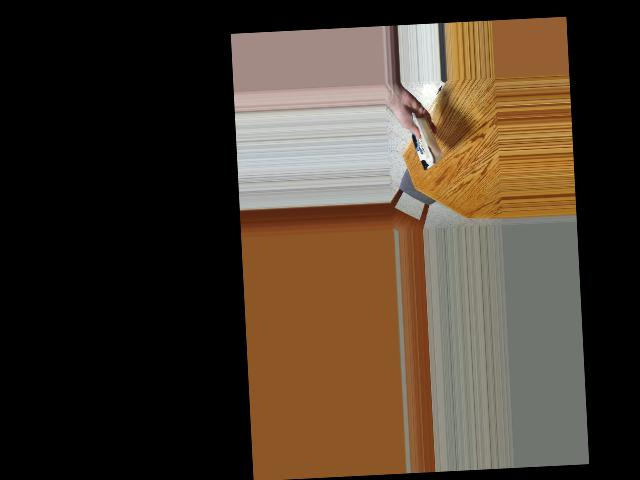cheese: (400, 116, 446, 168)
